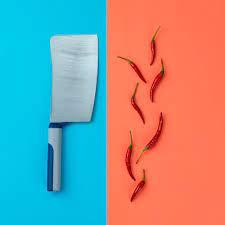knives: (38, 26, 104, 198)
